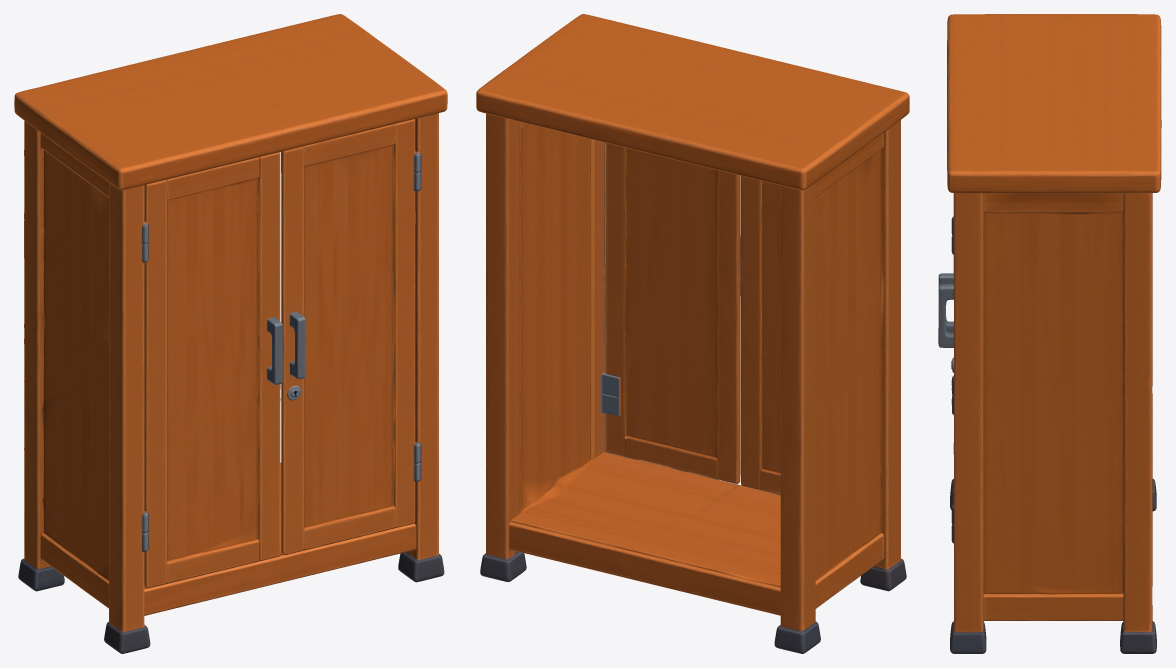
The model's file is Meshy_AI_Wooden_Storage_Cabine_1021035100_texture.fbx.
3 views of the same model, side by side, from view 1: azimuth 30°, elevation 25°; view 2: azimuth 150°, elevation 25°; view 3: azimuth 270°, elevation 25° (orthographic).
Parts seen in each view (by area): view 1: Mesh_0; view 2: Mesh_0; view 3: Mesh_0.
Part boxes in pixels (left/top/right/bottom): Mesh_0: left=14, top=14, right=447, bottom=653; Mesh_0: left=476, top=14, right=909, bottom=653; Mesh_0: left=938, top=14, right=1161, bottom=653.
Bounding box in the file's own units: 135 × 190 × 79.45.
Materials: 1 (1 with a texture image).
